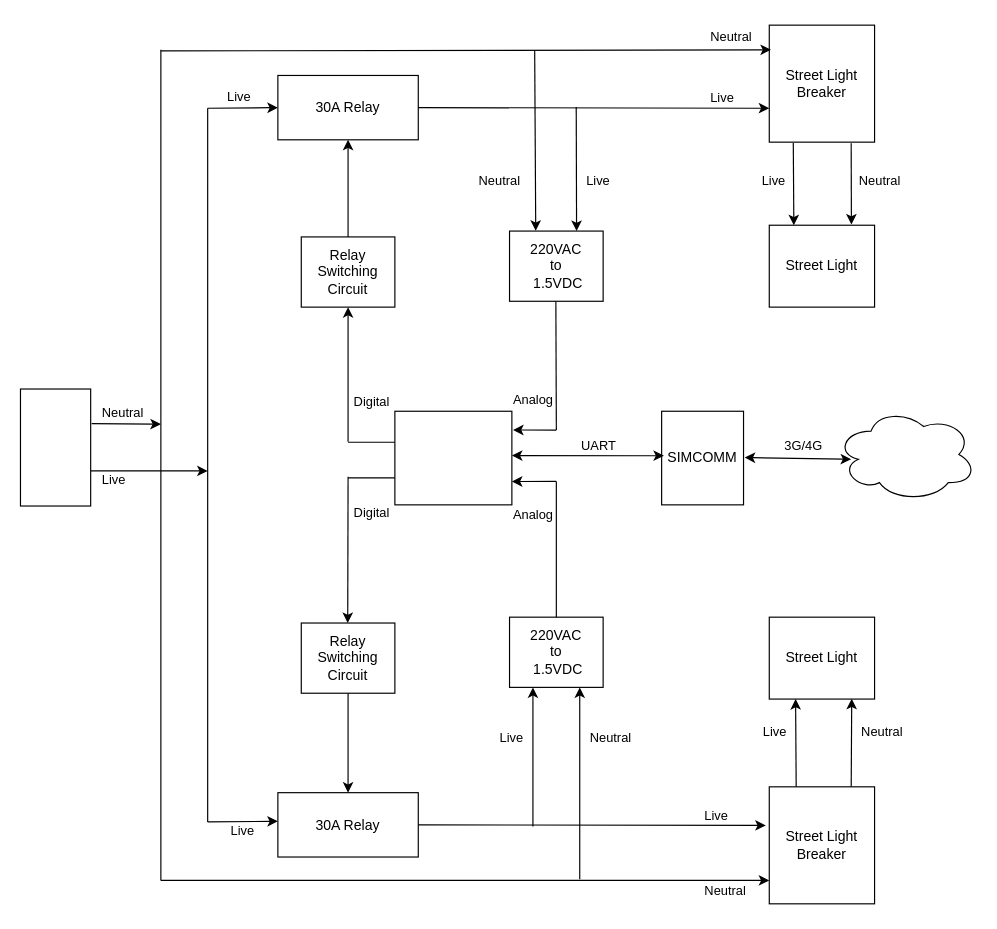
This 997x929 diagram has some shape labels left out. Each missing label, with the box of its shape:
220V AC: (19, 388, 91, 506)
PIC24 Microcontroller: (394, 410, 512, 505)
TCP Server: (835, 407, 976, 501)
